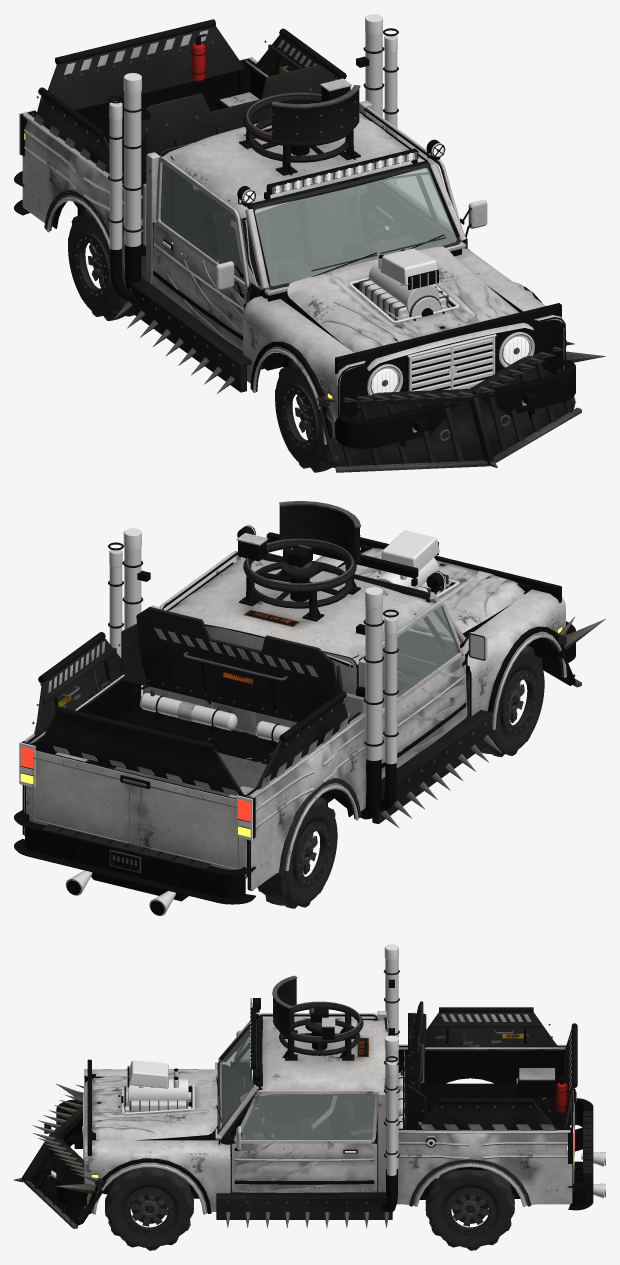
The picture shows the model from 3 angles, top to bottom: view 1: azimuth 30°, elevation 25°; view 2: azimuth 150°, elevation 25°; view 3: azimuth 270°, elevation 25°; orthographic projection. The views are drawn at different scales.
Visible parts, largest first — view 1: body, panel_bumper_F, panel_door_R, panel_hood, panel_fender_R, panel_armor_skirt_R, wheel_RR, wheel_FR, panel_door_L, panel_tailgate, panel_fender_L, lamp_head_L (+1 smaller); view 2: body, panel_tailgate, panel_door_R, panel_bumper_R, panel_fender_R, panel_armor_skirt_R, wheel_RR, panel_hood, wheel_FR, panel_bumper_F, panel_door_L; view 3: body, panel_door_L, panel_fender_L, panel_hood, wheel_FL, wheel_RL, panel_bumper_F, panel_armor_skirt_L, panel_bumper_R, panel_door_R, panel_fender_R.
Boxes of the visible parts, x1,y1,x2,y2 form: body: [19, 14, 561, 448]; panel_bumper_F: [318, 340, 605, 472]; panel_door_R: [152, 156, 252, 351]; panel_hood: [287, 246, 533, 371]; panel_fender_R: [243, 296, 365, 444]; panel_armor_skirt_R: [114, 277, 263, 393]; wheel_RR: [68, 209, 145, 320]; wheel_FR: [275, 360, 337, 472]; panel_door_L: [362, 106, 487, 249]; panel_tailgate: [75, 71, 238, 141]; panel_fender_L: [454, 248, 565, 371]; lamp_head_L: [502, 335, 530, 365]; body: [19, 501, 561, 915]; panel_tailgate: [26, 750, 247, 879]; panel_door_R: [362, 600, 487, 778]; panel_bumper_R: [14, 810, 255, 904]; panel_fender_R: [462, 589, 568, 729]; panel_armor_skirt_R: [372, 710, 501, 827]; wheel_RR: [257, 797, 337, 908]; panel_hood: [338, 548, 524, 633]; wheel_FR: [467, 645, 544, 757]; panel_bumper_F: [535, 617, 605, 687]; panel_door_L: [159, 550, 241, 610]; body: [70, 944, 605, 1211]; panel_door_L: [230, 1090, 377, 1192]; panel_fender_L: [84, 1140, 230, 1214]; panel_hood: [84, 1068, 217, 1145]; wheel_FL: [105, 1167, 193, 1250]; wheel_RL: [425, 1169, 514, 1250]; panel_bumper_F: [14, 1083, 106, 1228]; panel_armor_skirt_L: [216, 1192, 392, 1228]; panel_bumper_R: [568, 1098, 593, 1210]; panel_door_R: [232, 1013, 378, 1064]; panel_fender_R: [84, 1069, 213, 1082].
Bounding box in the file's own units: 2.9 × 2.7 × 6.64.
Materials: 20 (12 with a texture image).
